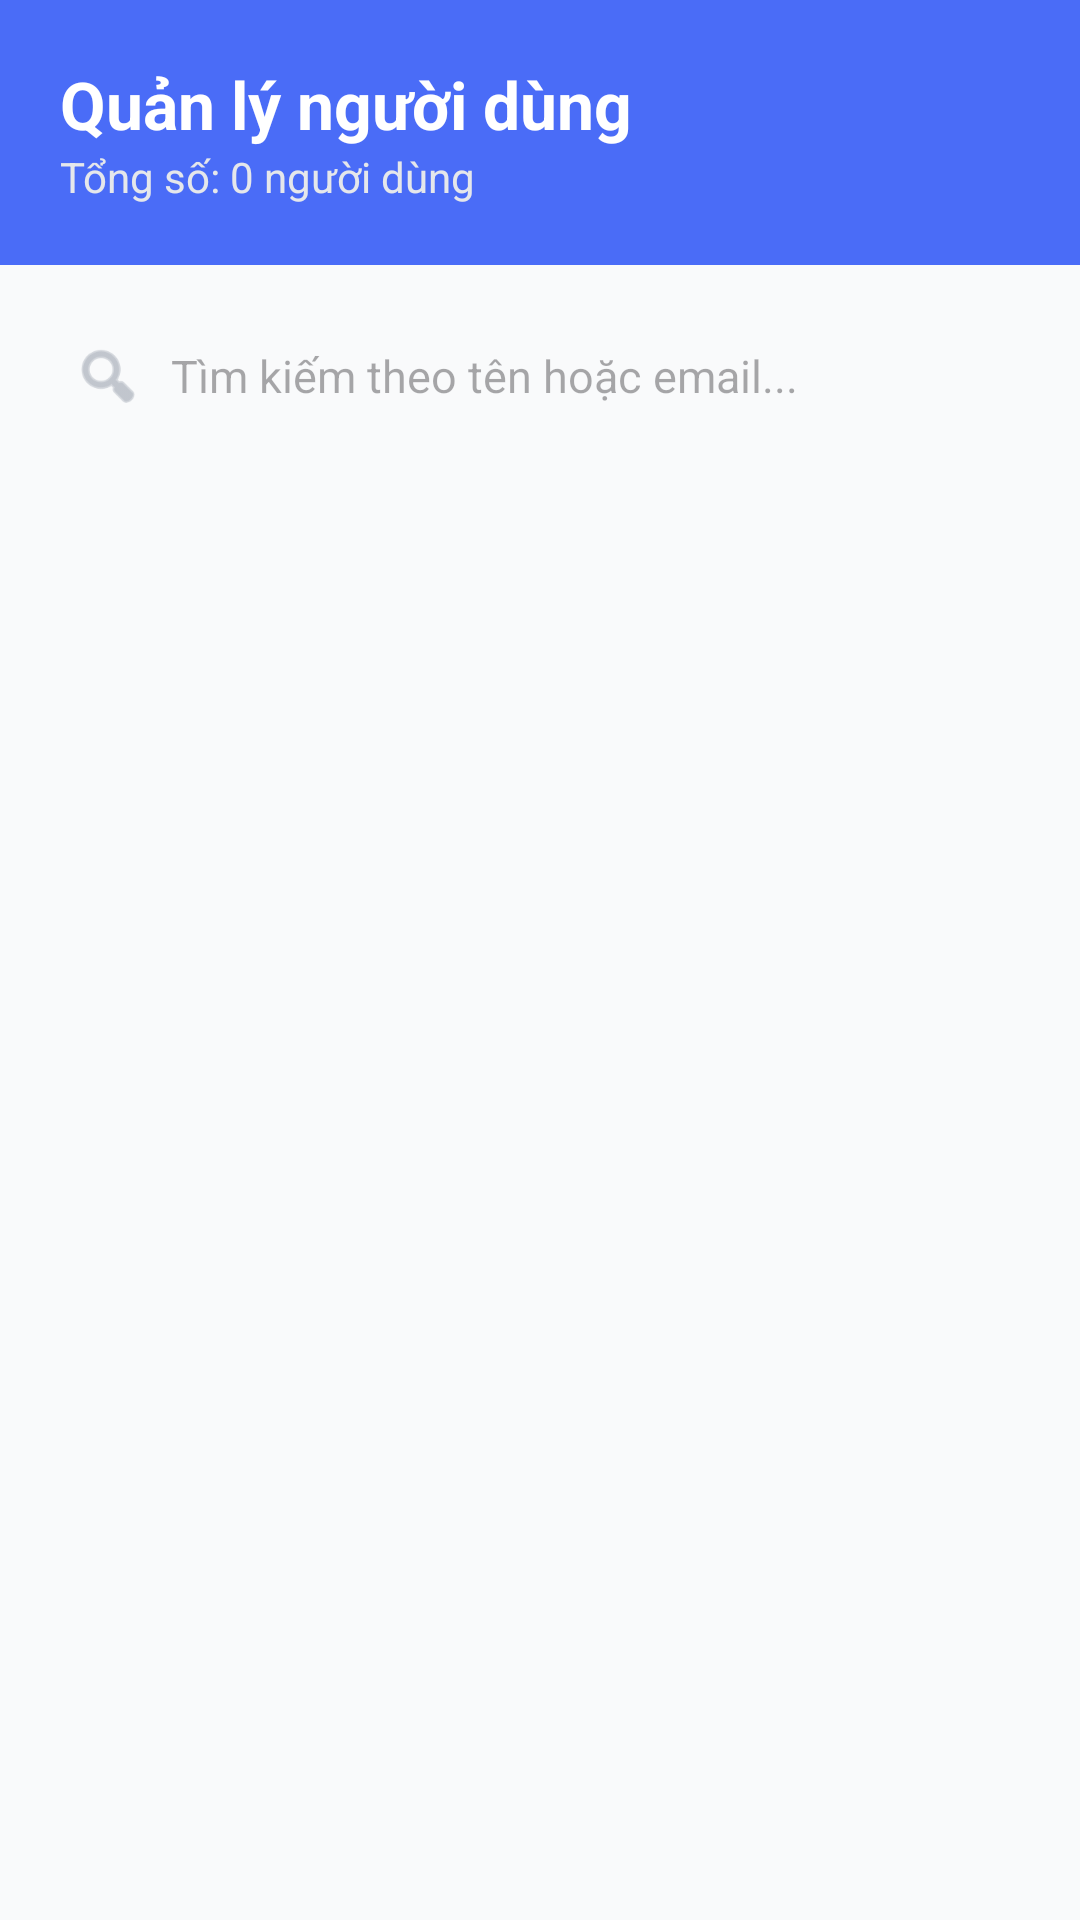

Screen size 1080×1920. Icon name, then its box in pixels as (x1, y1, x2, y2):
search: (82, 350, 134, 403)
